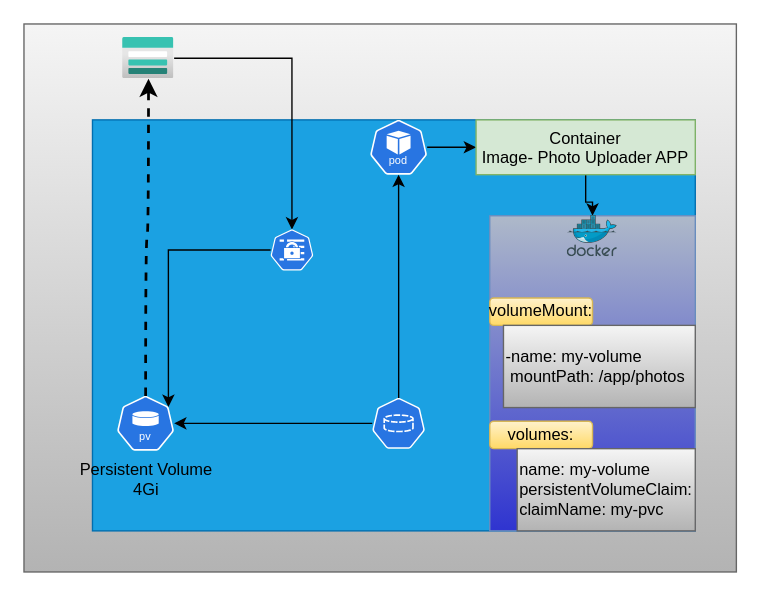
The diagram is 760 pixels wide and 596 high, and some of its shapes have lost their labels. Here are the shapes that lost their labels. From the top down, the centre of each, then its label:
the point at 147,57: Azure storage Account
the point at 291,249: Secrets my-secrete storageAccountKey storageAccountName
the point at 398,423: Persistent Volume Claim 4Gi
